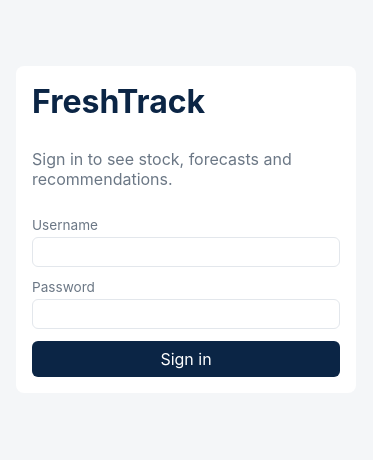
Test case: Login › explains the lockout when rate limited
The image size is (373, 460).
Step 1. Type "manager" into the field labelled "Username" → (186, 252), box 32,236 -> 340,266
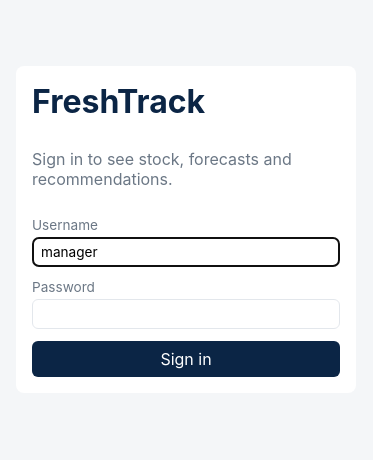
Step 2. Type "bad" into the password field labelled "Password" → (186, 314), box 32,298 -> 340,328
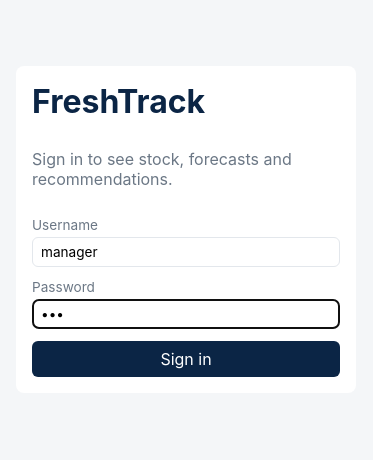
Step 3. Click the button "Sign in" → (186, 358), box 32,340 -> 340,376
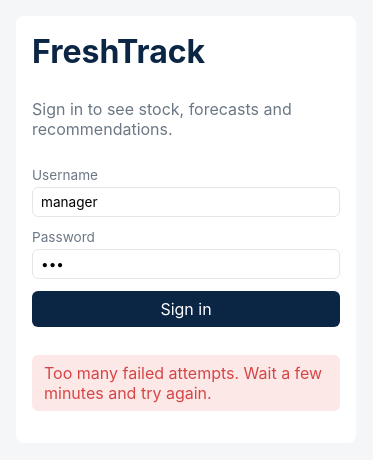
Check: the message shows "Too many failed attempts", box 44,362 -> 322,402
